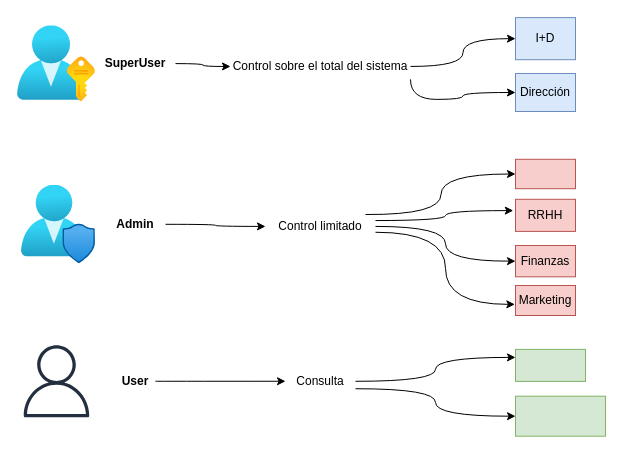
Some shapes in this 623 by 454 pixel diagram are drawn without their labels. The shapes that lost their labels are listed below. From the top down, each one's centre as x and y in pixels, then its label:
(x=545, y=173): Recepción
(x=550, y=364): Producción
(x=560, y=415): Mantenimiento
